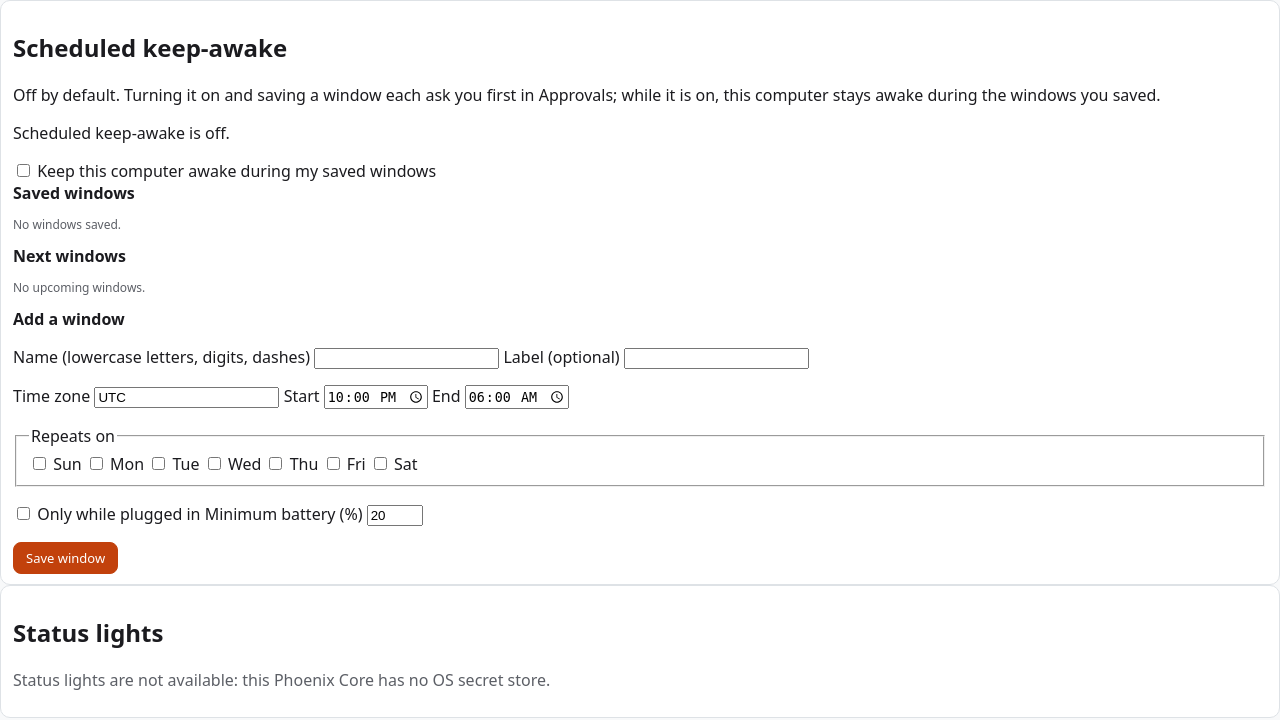
Scenario: scheduled keep-awake › saves a window with exactly the documented body
The image size is (1280, 720).
Expected: the text "Scheduled keep-awake is off." is shown, [13,122,230,144]
Type "night" into the field labelled "Name (lowercase letters, digits, dashes)" at (407, 358), box [314,348,499,369]
Type "Night shift" into the field labelled "Label (optional)" at (716, 358), box [624,348,809,369]
Replace the text in the field labelled "Time zone" with "Europe/Paris" at (187, 397), box [94,387,280,408]
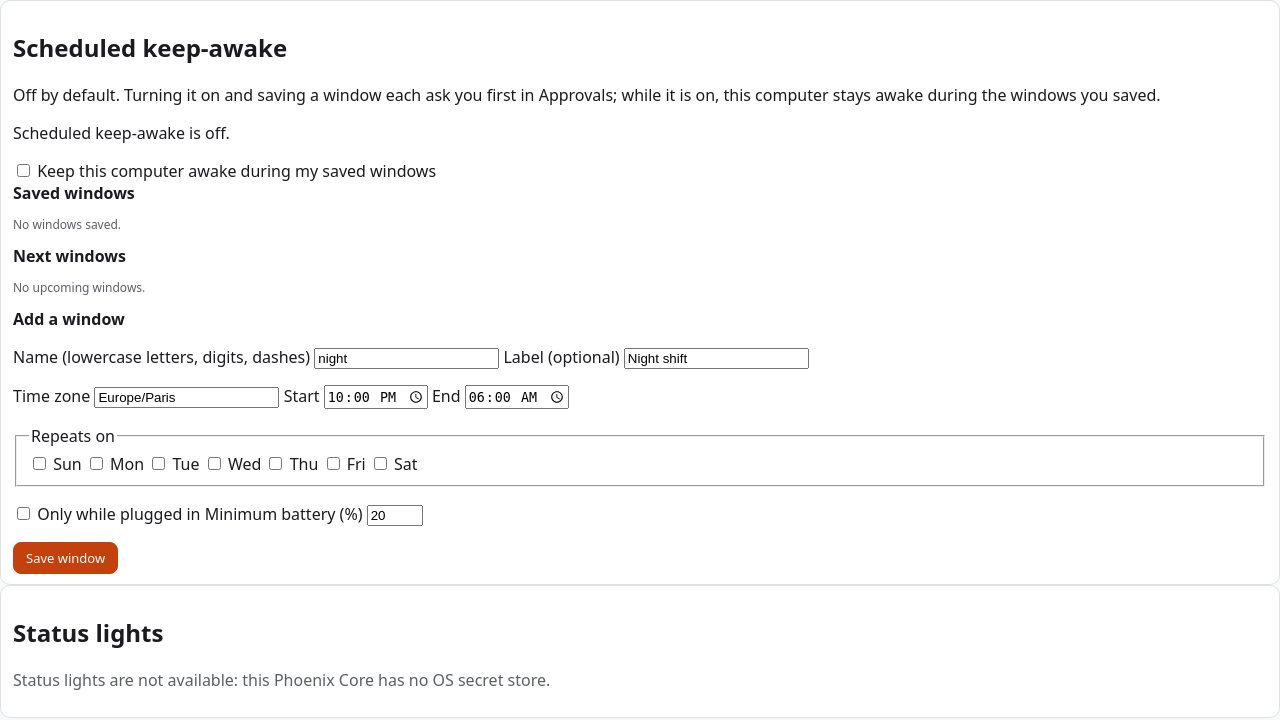
Click the checkbox labelled "Wed" at (214, 463), box [208,457,221,470]
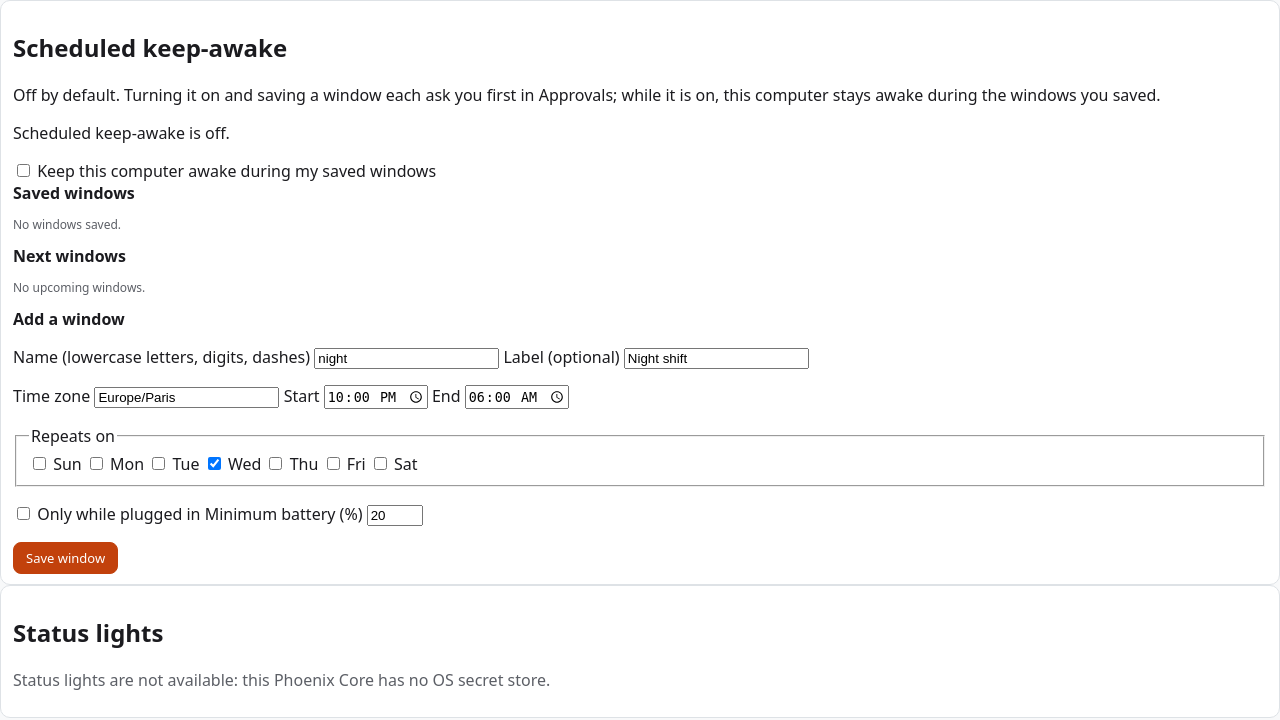
Click the checkbox labelled "Mon" at (96, 463), box [90,457,103,470]
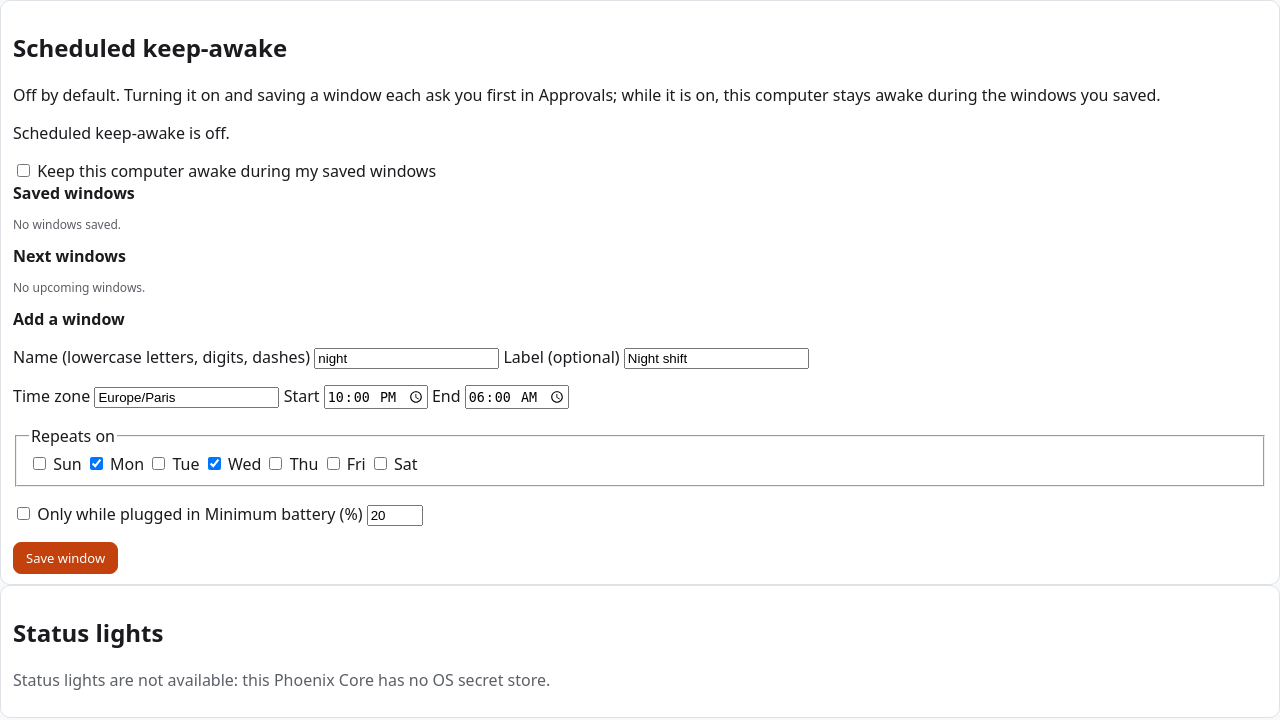
Click the checkbox labelled "Only while plugged in" at (24, 513), box [17,507,30,520]
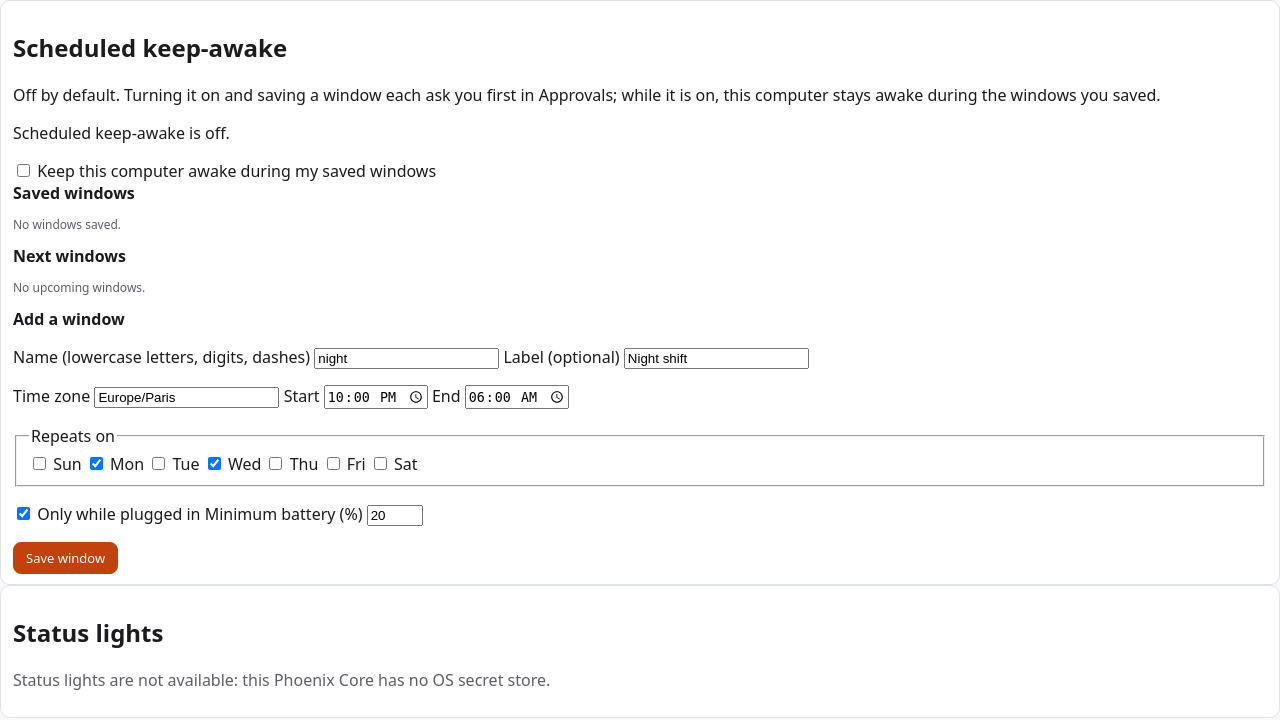
Replace the text in the number field labelled "Minimum battery (%)" with "30" at (395, 515), box [367,505,423,526]
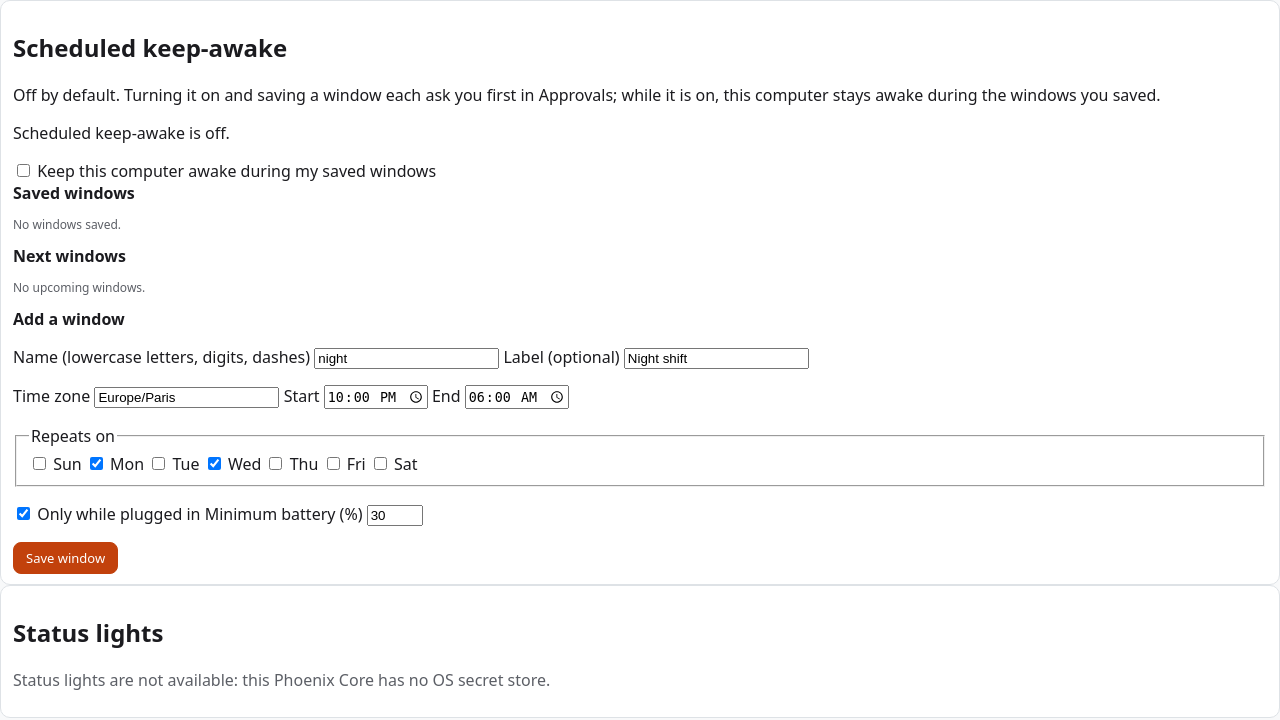
Click the button "Save window" at (66, 558), box [13,542,118,574]
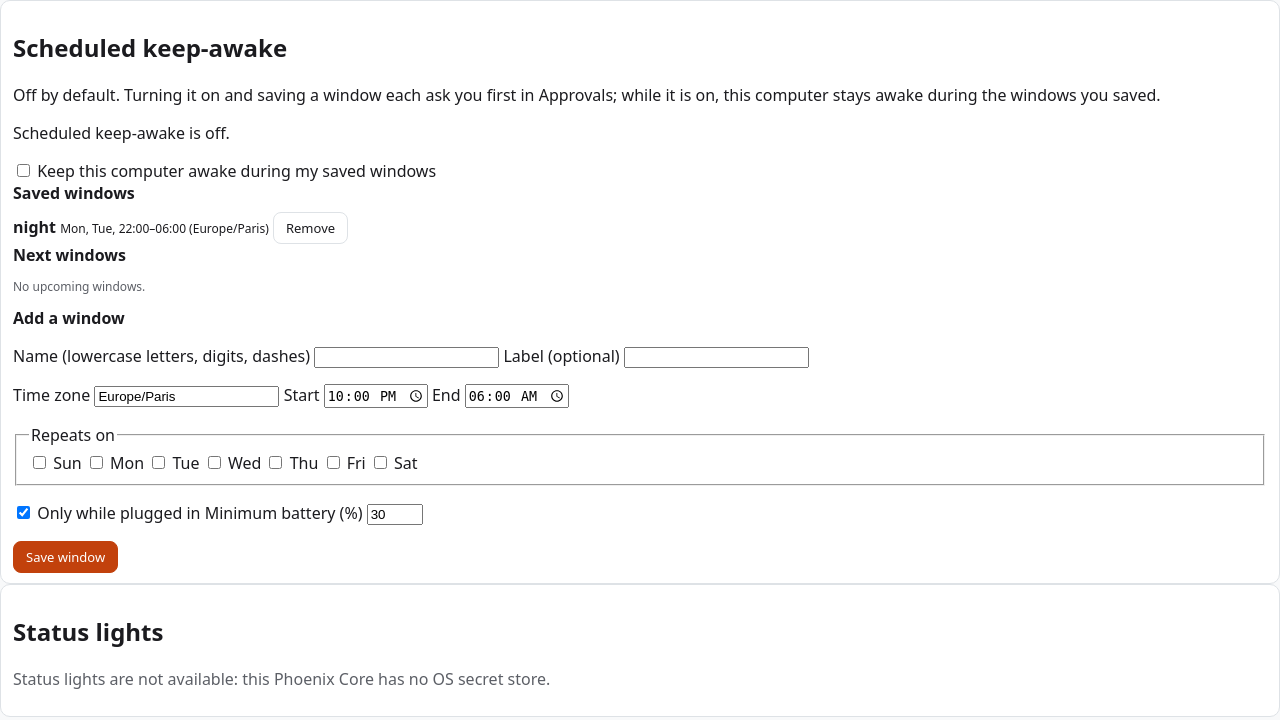
Expected: the text "Mon, Tue, 22:00–06:00 (Europe/Paris)" is shown, [60,220,269,237]
